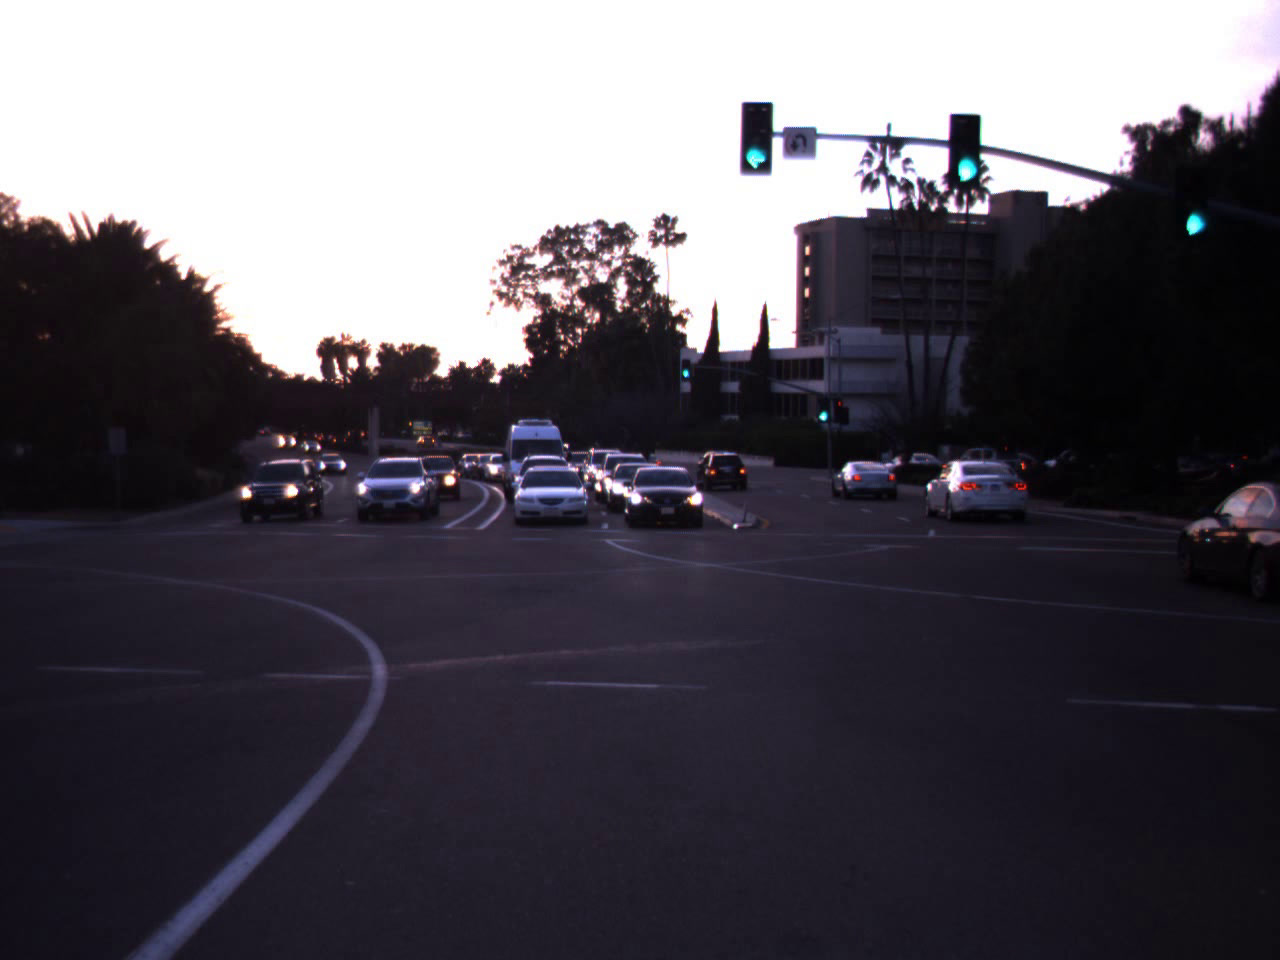go: (720, 77, 786, 182), (942, 90, 993, 190), (1172, 153, 1217, 243), (814, 388, 833, 423), (680, 353, 692, 378)
